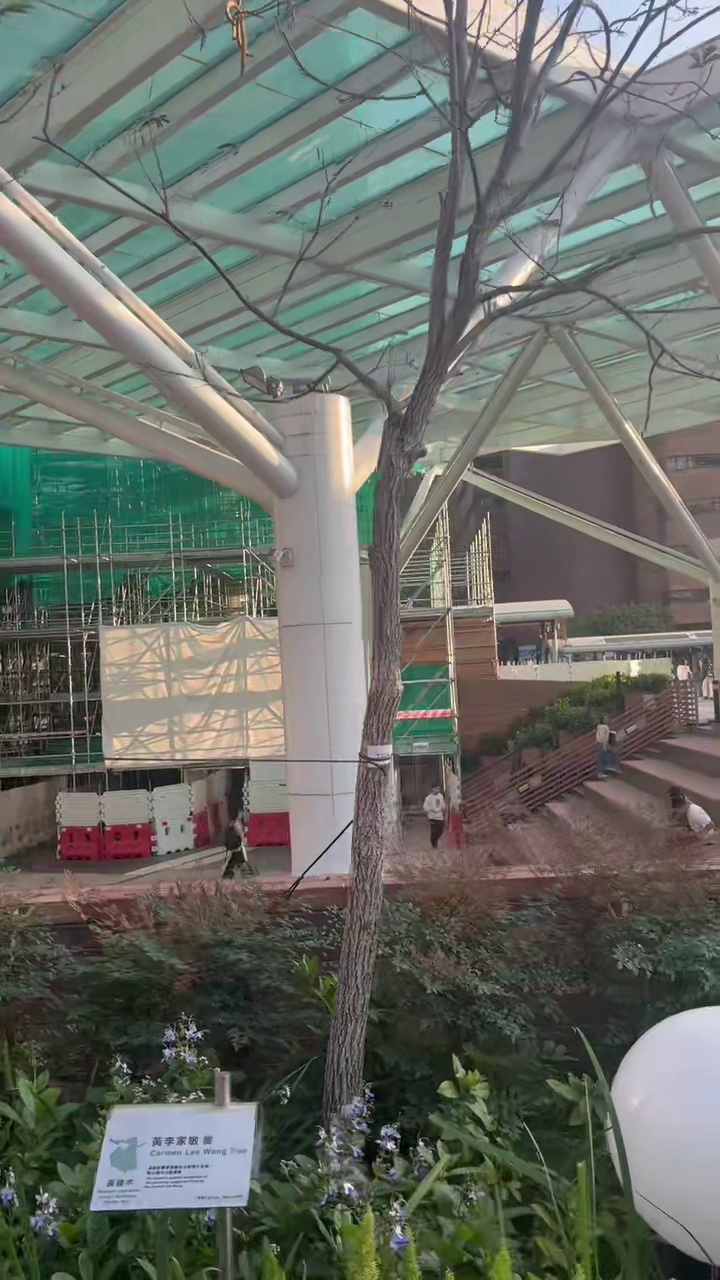Tabebuia chrysantha: (232, 0, 546, 1119)
